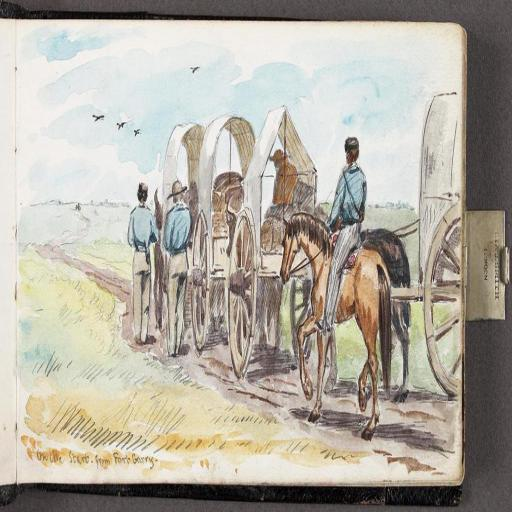horse: (278, 212, 391, 442), (309, 200, 412, 400)
